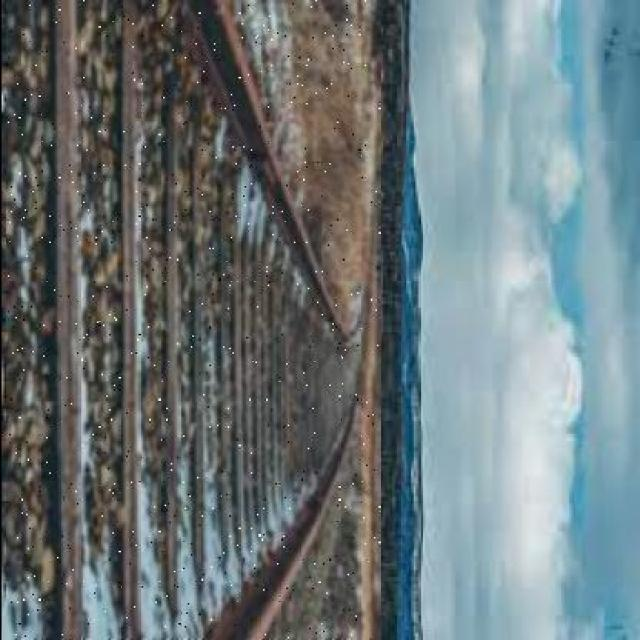rail: (7, 1, 379, 639)
